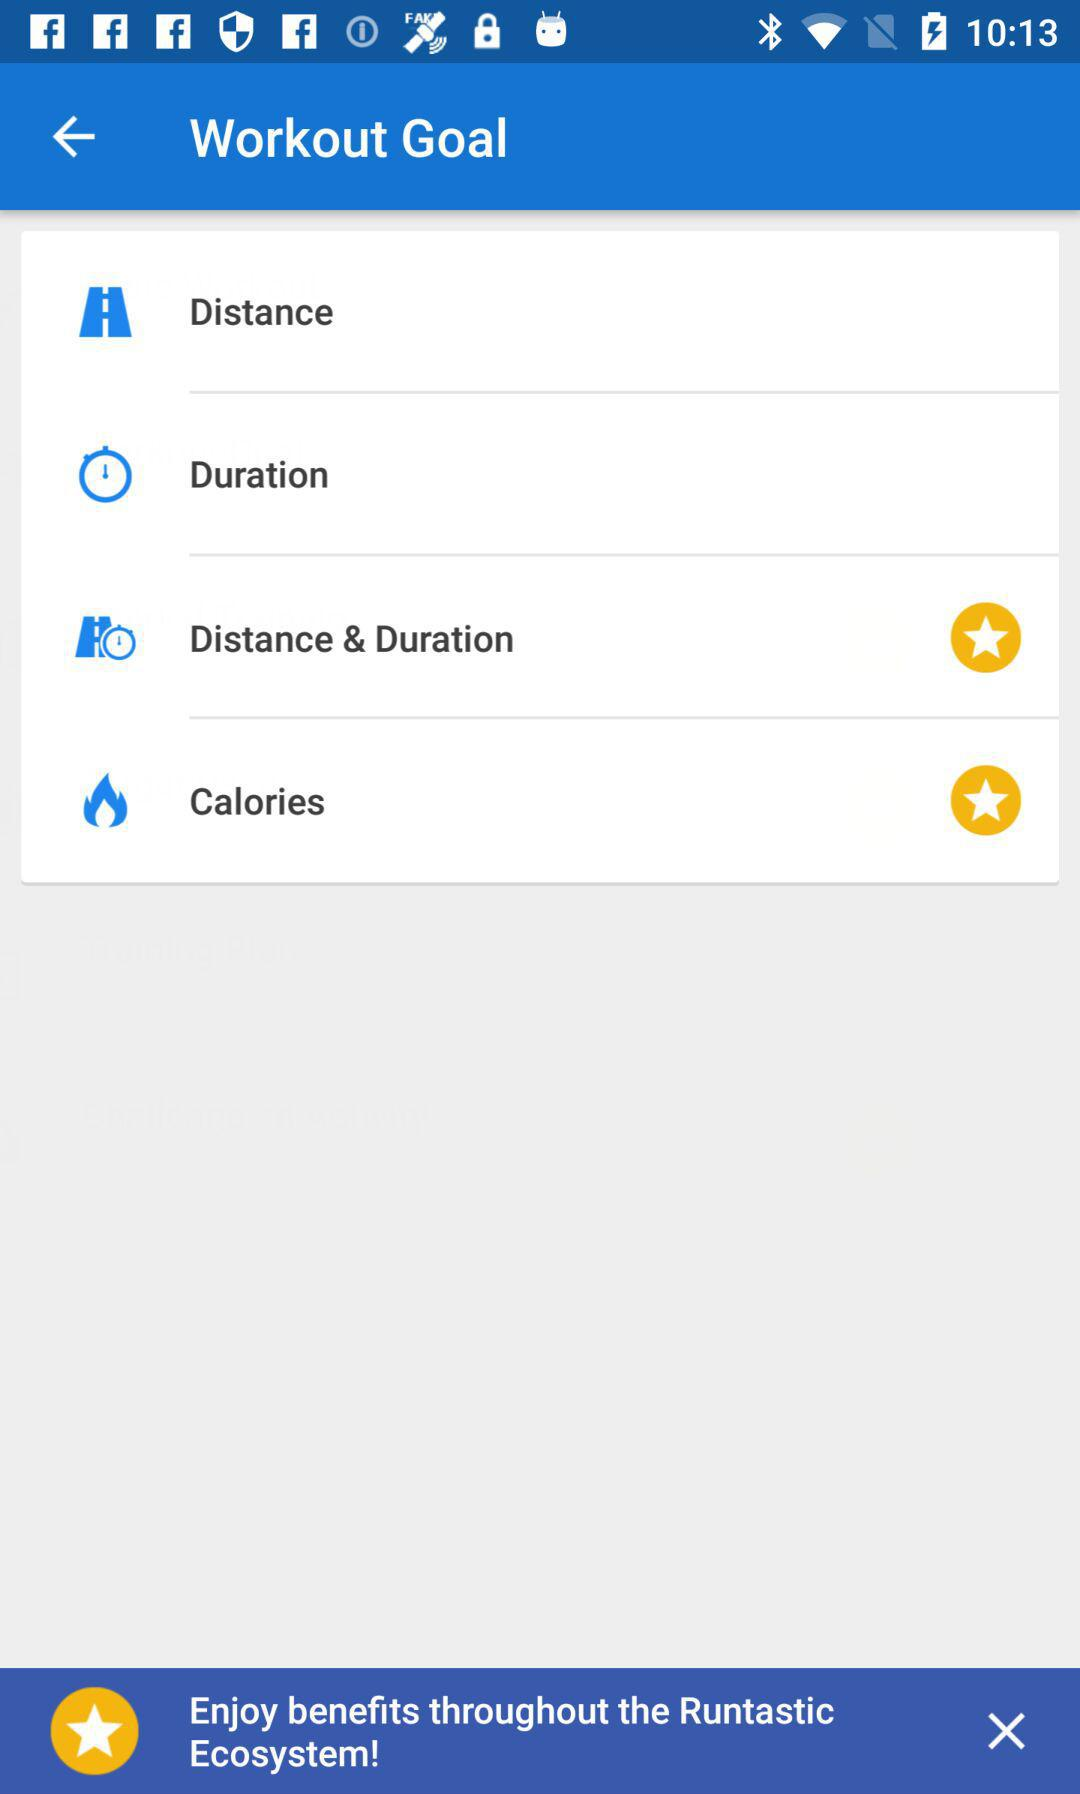Card: (20, 231, 1061, 885)
Icon: (50, 1686, 141, 1777), (949, 596, 1026, 675), (951, 762, 1025, 839), (79, 445, 135, 505), (51, 114, 97, 161), (986, 1711, 1027, 1750)
Image: (78, 286, 135, 340), (76, 616, 138, 662), (83, 771, 129, 829)
Text: (190, 1694, 835, 1776), (188, 117, 509, 161), (191, 624, 515, 654), (191, 297, 334, 328), (190, 786, 325, 818), (191, 460, 331, 491)
Toolbar: (1, 65, 1080, 211)
UpperTaskBar: (1, 1, 1080, 64)
